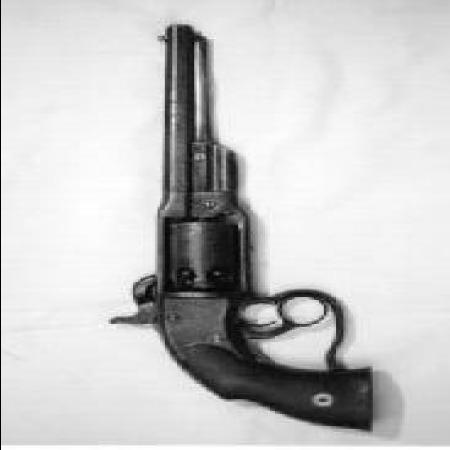Pistol: (88, 23, 372, 435)
